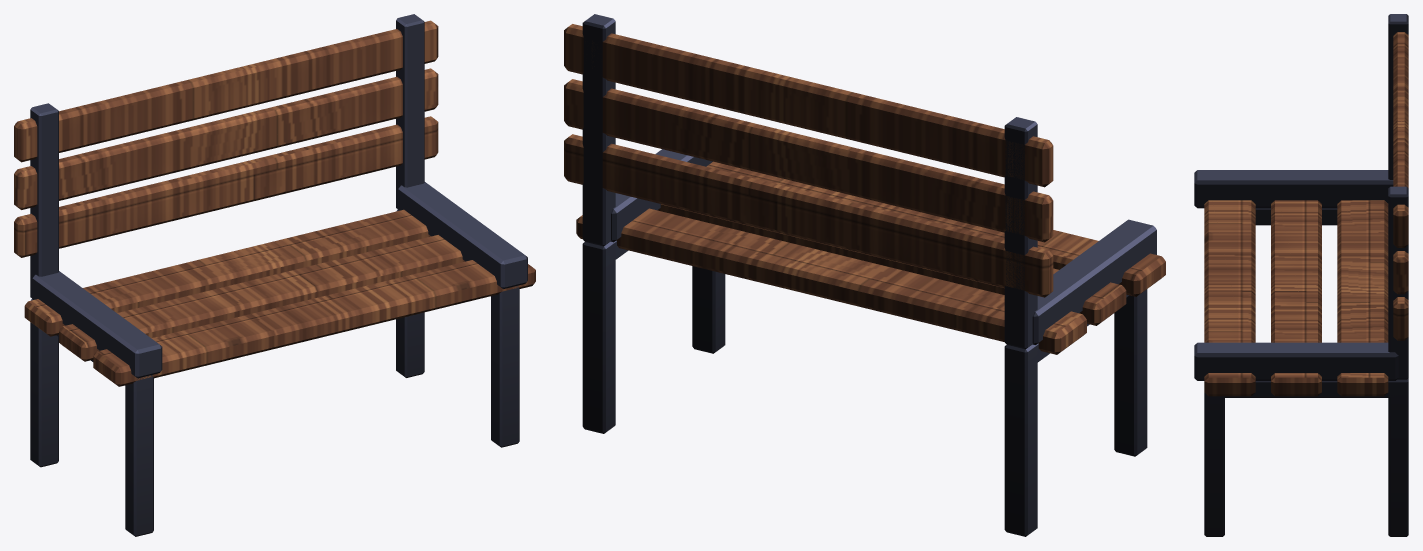
Rendered from bench.glb.
The picture shows the model from 3 angles, left to right: view 1: azimuth 30°, elevation 25°; view 2: azimuth 150°, elevation 25°; view 3: azimuth 270°, elevation 25°; orthographic projection. The views are drawn at different scales.
Parts seen in each view (by area): view 1: bench; view 2: bench; view 3: bench.
Part boxes in pixels (x1=…): bench: x1=14, y1=14, x2=535, y2=536; bench: x1=564, y1=14, x2=1165, y2=536; bench: x1=1194, y1=14, x2=1408, y2=536.
Bounding box in the file's own units: 0.92 × 0.742 × 0.42.
Materials: 3 (3 with a texture image).
